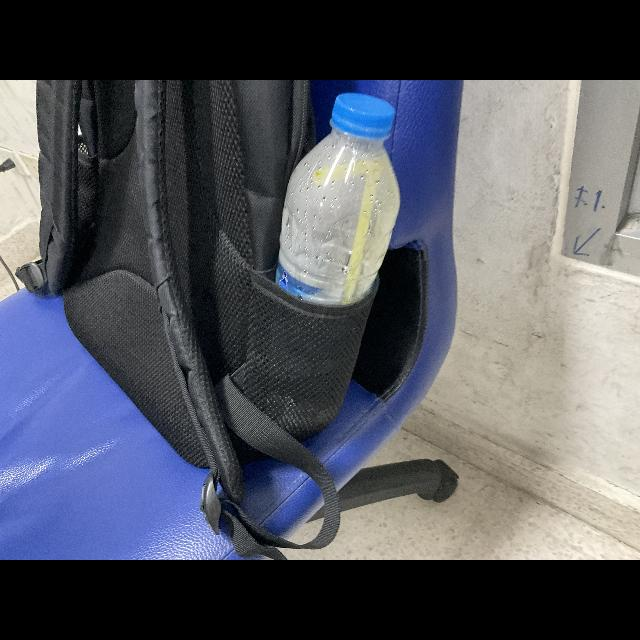plastic_bottle: (276, 88, 402, 310)
